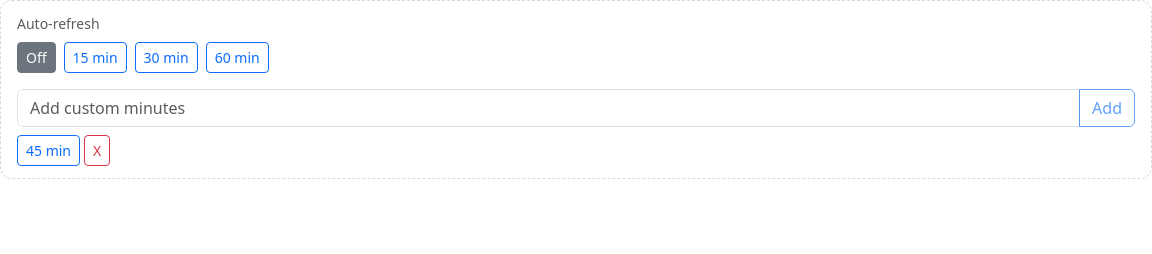
Test case: AutoRefreshControls › does not select a custom interval when location is missing
In the number field named "Custom interval": (549, 108) [17, 89, 1080, 127], type "10"
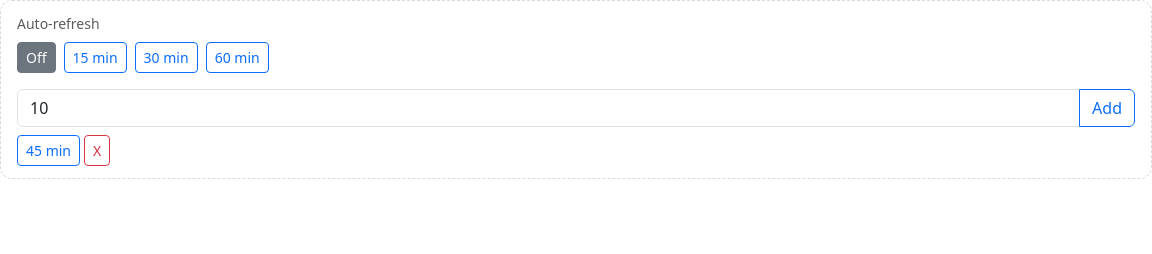
Click the button "Add": (1107, 108) [1079, 89, 1135, 127]
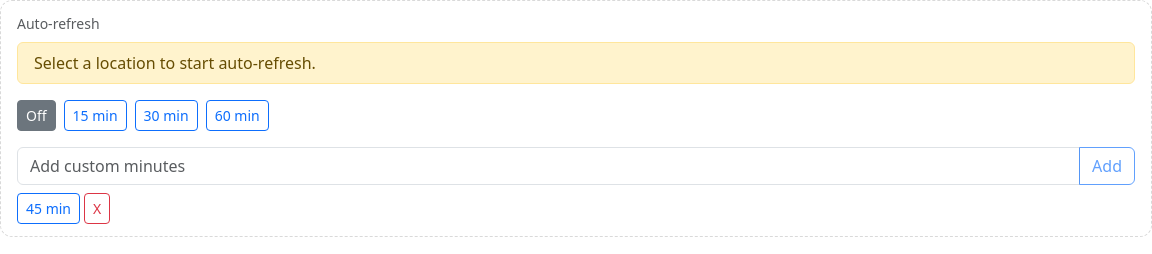
Check: the text "Select a location to start auto-refresh." is shown, box [17, 42, 1135, 84]
